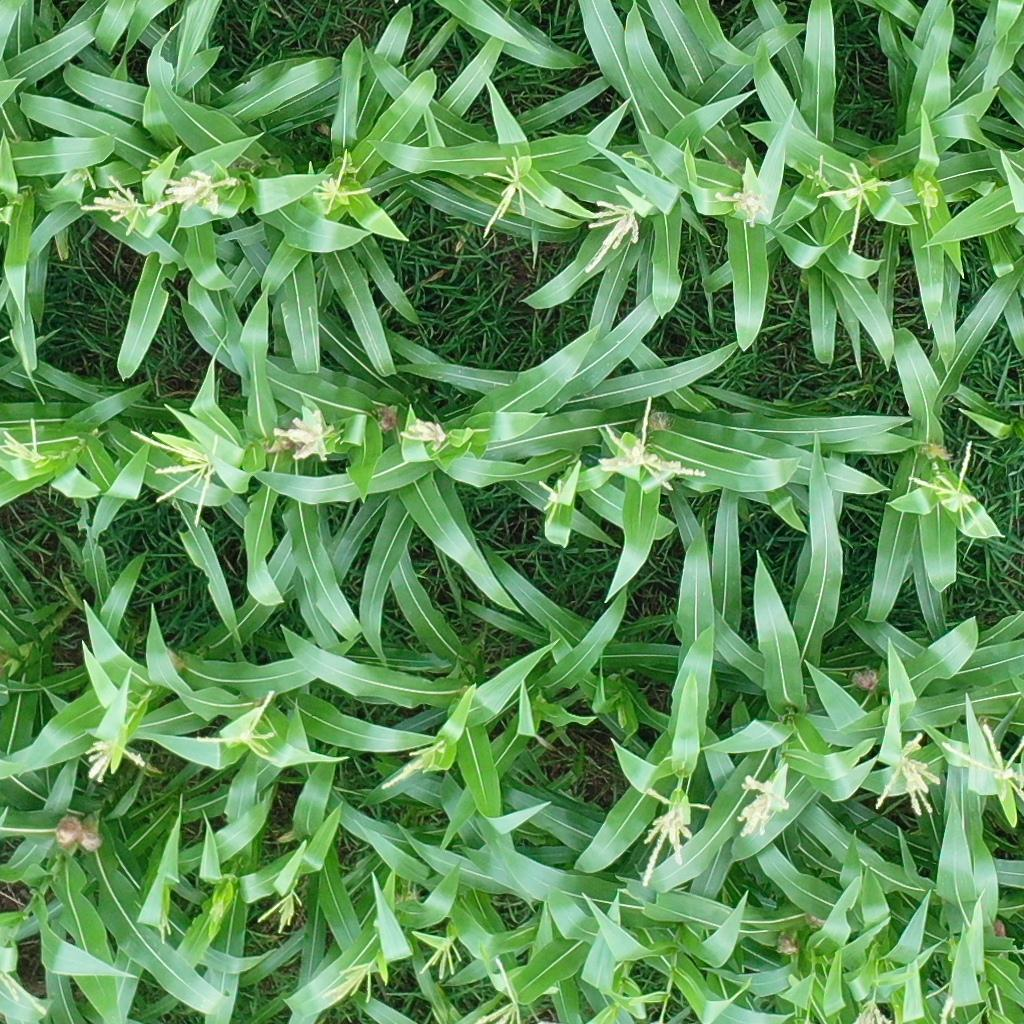Tassel: (589, 393, 705, 497), (128, 420, 227, 527), (626, 780, 713, 886), (808, 154, 888, 259), (908, 436, 988, 538), (942, 720, 1024, 809), (190, 686, 282, 757), (577, 187, 648, 278), (876, 726, 943, 816), (147, 165, 239, 230), (478, 154, 546, 239), (306, 148, 375, 215), (75, 177, 149, 238), (372, 738, 450, 793), (739, 769, 795, 843), (82, 732, 151, 788), (475, 955, 528, 1024), (267, 413, 339, 463), (713, 182, 771, 239), (251, 884, 303, 933), (319, 961, 379, 1001), (1, 413, 47, 465), (413, 936, 465, 981), (1, 967, 45, 1015), (396, 415, 449, 451), (908, 177, 946, 225), (140, 896, 178, 944), (852, 998, 903, 1024), (536, 474, 569, 513), (197, 895, 230, 925), (810, 154, 834, 188)
